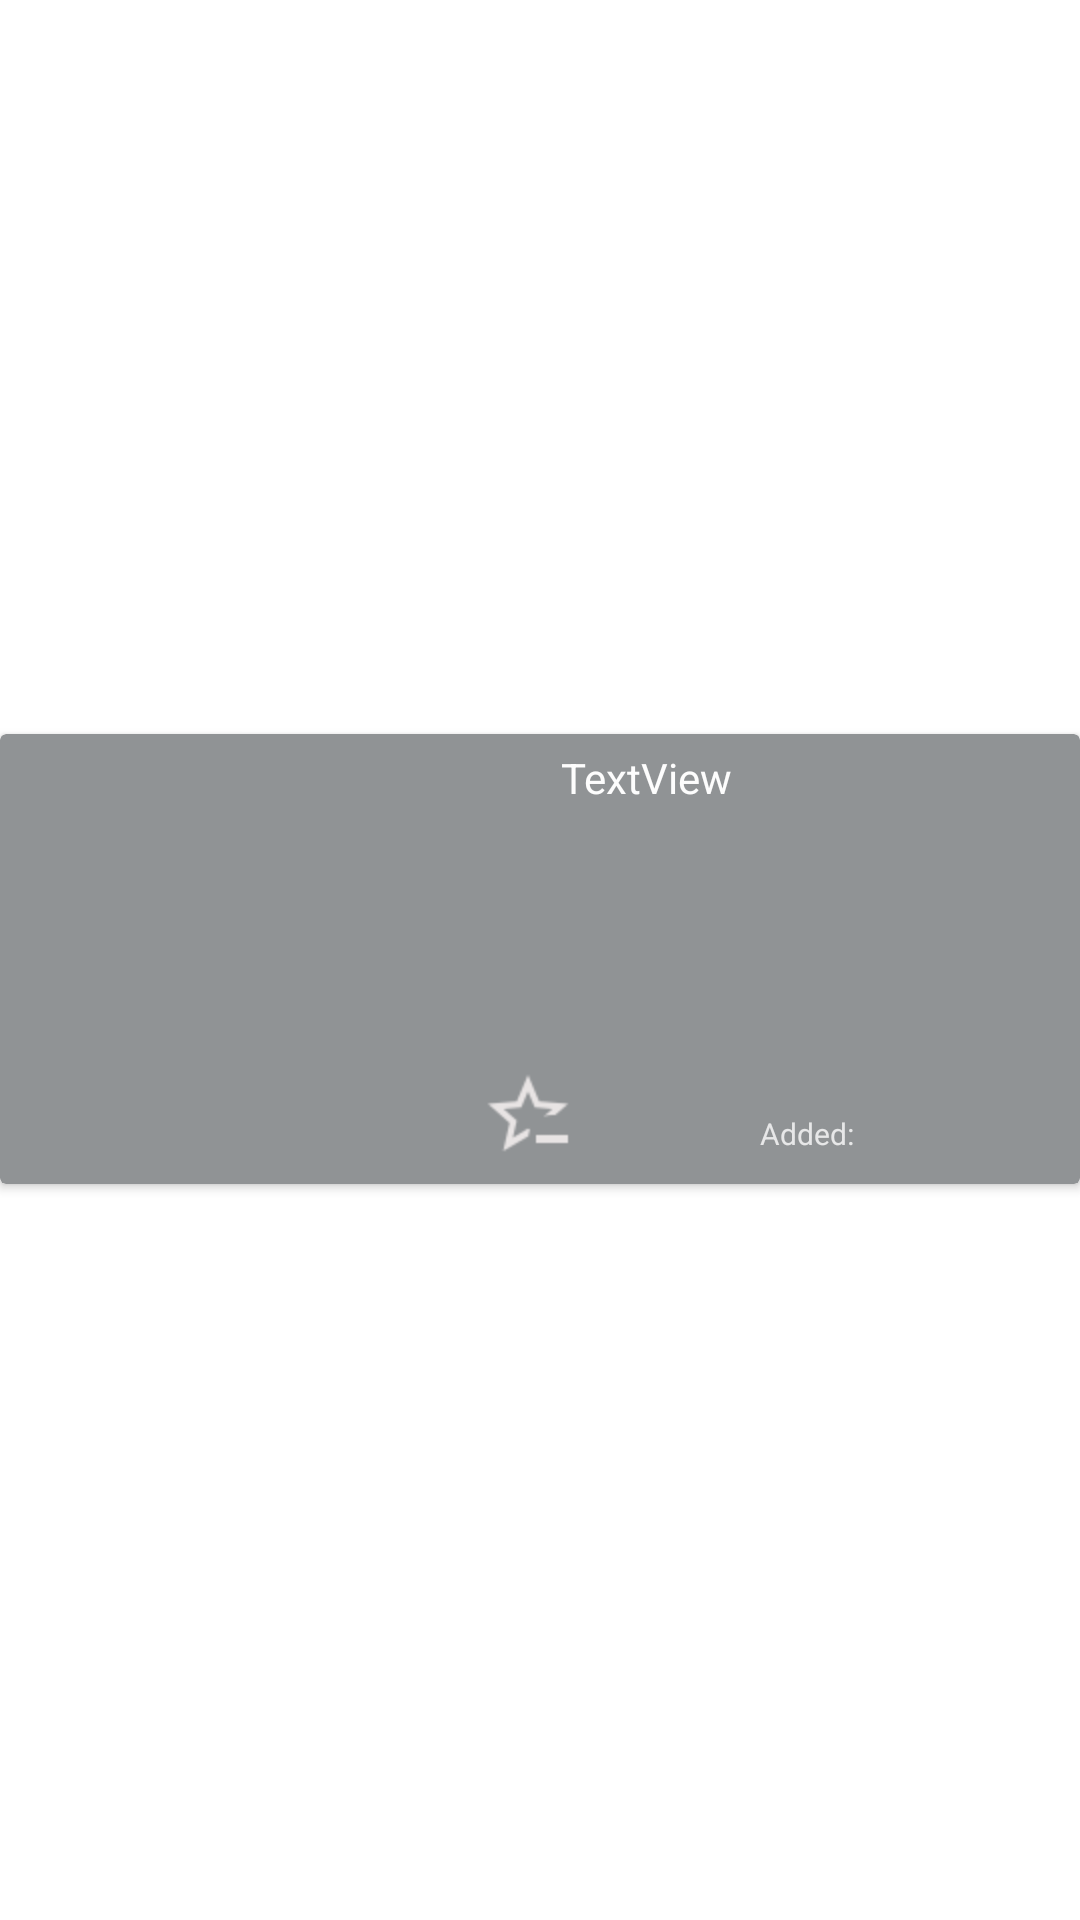

Screen size 1080w x 1920h. Icon name, then its box in pixels as {"x1": x1, "y1": y1, "x2": x2, "y2": y2}:
star minus: {"x1": 489, "y1": 1076, "x2": 568, "y2": 1151}
